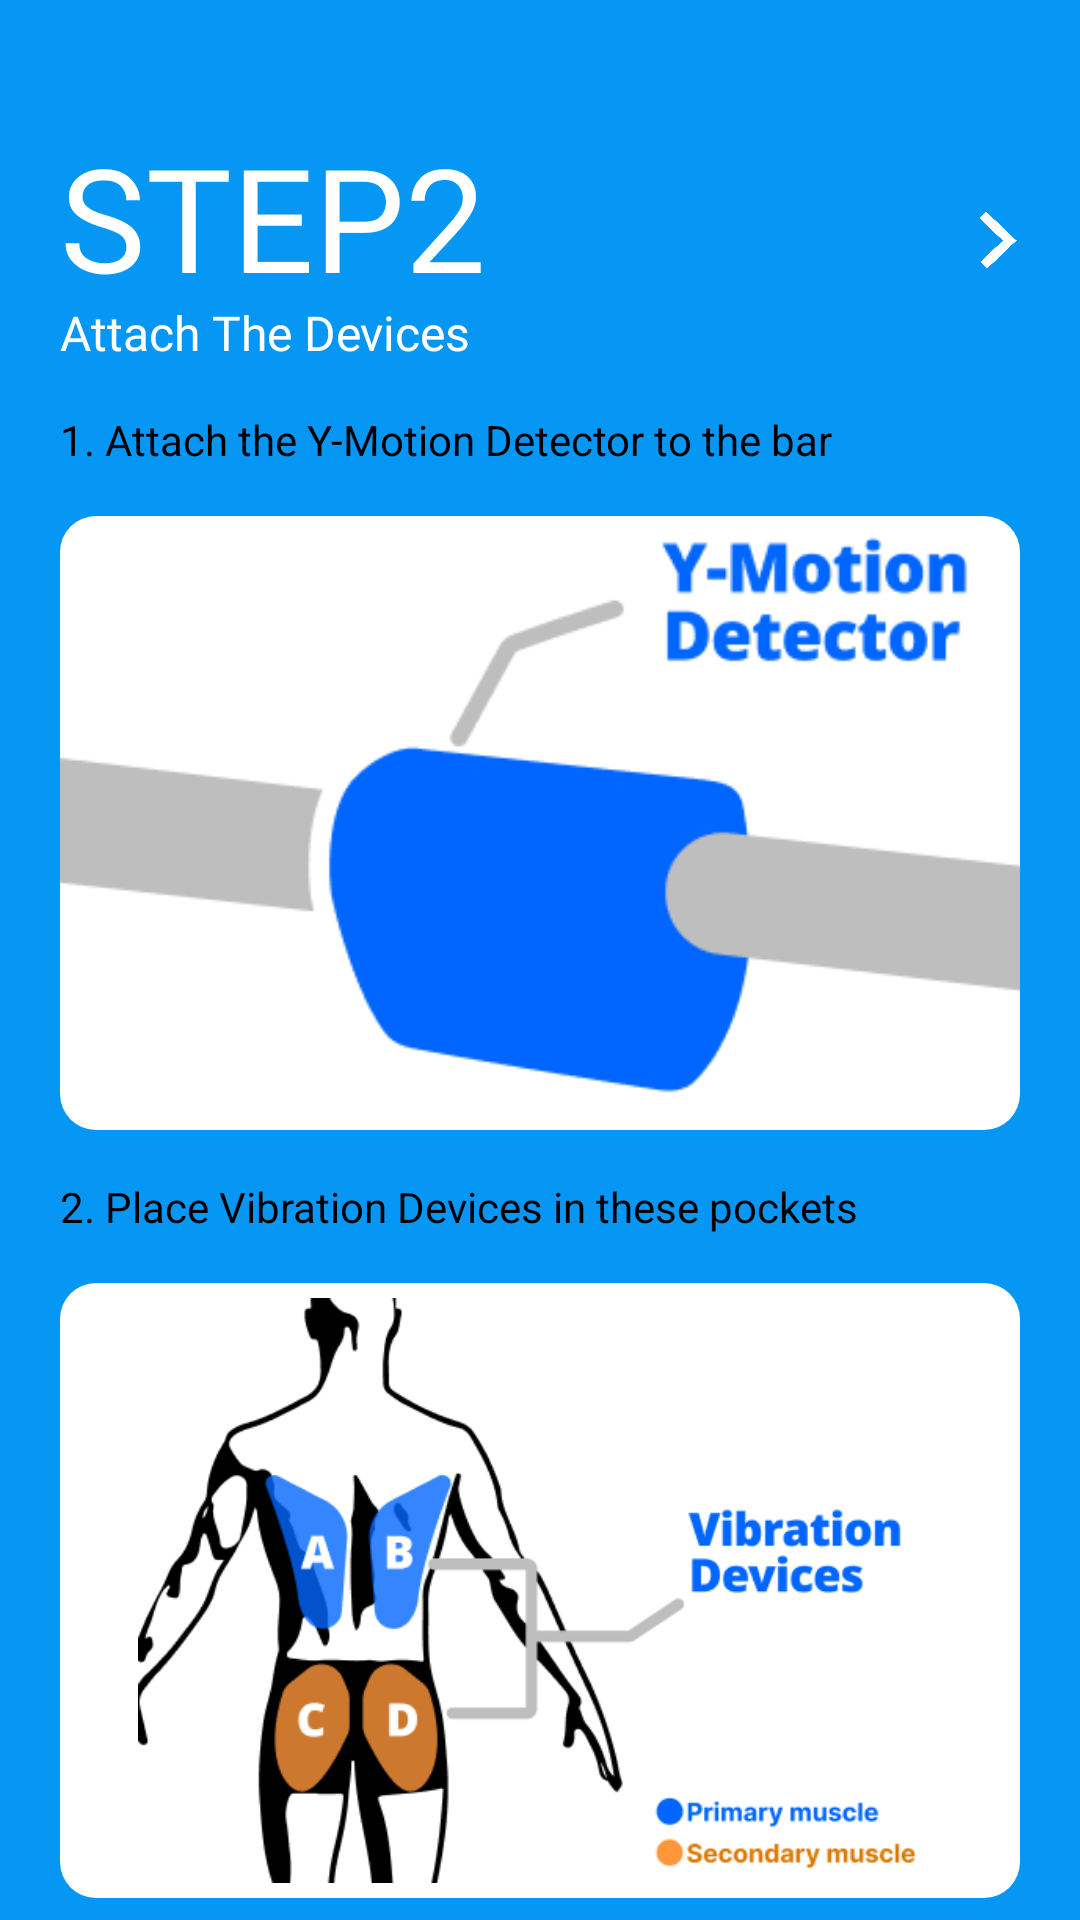

Point at icon controls on the screen. Image size 1080 x 1920, points as (x=x, y=y).
nextbutton: (x=998, y=240)
